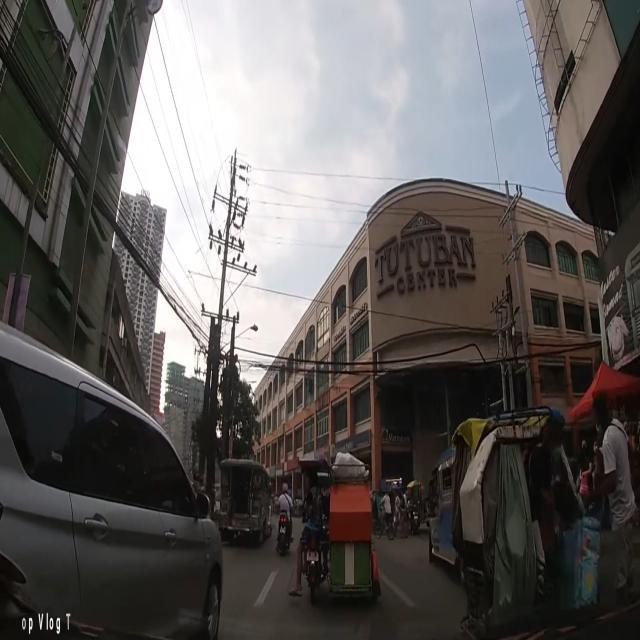bike: (376, 486, 396, 542)
car: (0, 319, 225, 640)
jeepney: (217, 460, 272, 544), (426, 450, 458, 568)
motorcycle: (278, 482, 292, 554), (407, 498, 421, 535)
tricycle: (450, 408, 590, 632), (296, 452, 384, 608)
